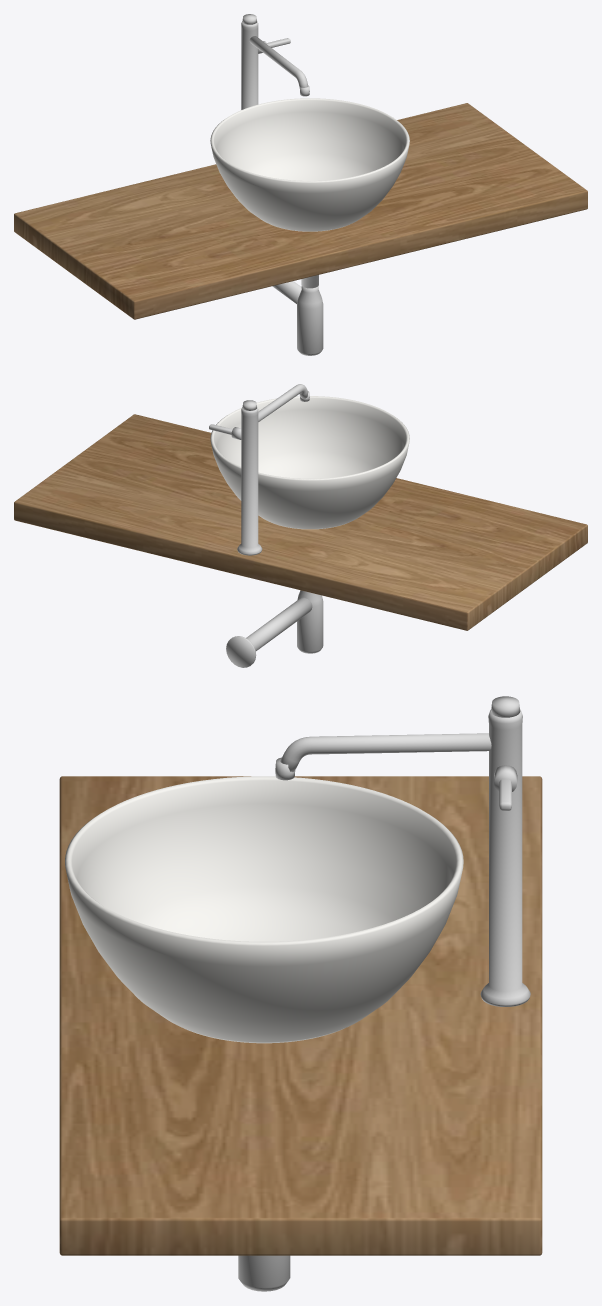
The model's file is lavabo_sobre_encimera_redondo_100.glb.
The picture shows the model from 3 angles, top to bottom: view 1: azimuth 30°, elevation 25°; view 2: azimuth 150°, elevation 25°; view 3: azimuth 270°, elevation 25°; orthographic projection. The views are drawn at different scales.
Parts seen in each view (by area): view 1: lavabo_sobre_encimera_redondo_100; view 2: lavabo_sobre_encimera_redondo_100; view 3: lavabo_sobre_encimera_redondo_100.
Part boxes in pixels (left/top/right/bottom): lavabo_sobre_encimera_redondo_100: left=14, top=14, right=587, bottom=355; lavabo_sobre_encimera_redondo_100: left=14, top=384, right=587, bottom=667; lavabo_sobre_encimera_redondo_100: left=59, top=696, right=542, bottom=1291.
Size of the model in its own units: 1 by 0.612 by 0.46.
Materials: 3 (1 with a texture image).
